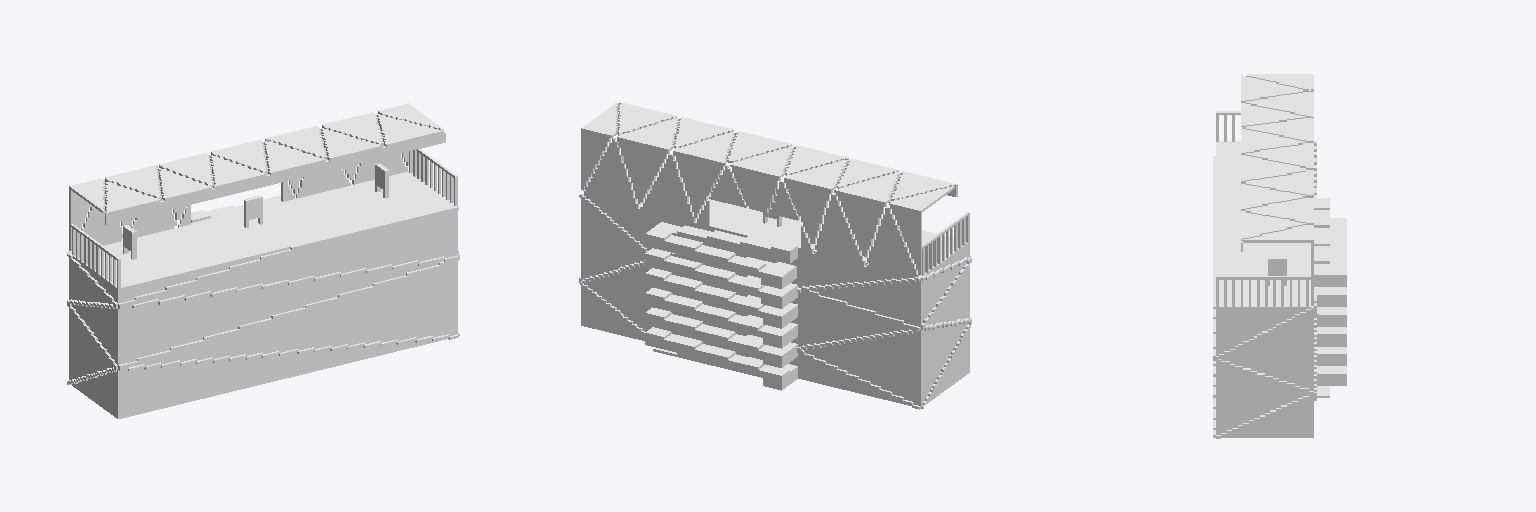
Rendered from Estacion.obj.
3 renders of one model, left to right at view 1: azimuth 30°, elevation 25°; view 2: azimuth 150°, elevation 25°; view 3: azimuth 270°, elevation 25°, orthographic.
Parts seen in each view (by area): view 1: object 1; view 2: object 1; view 3: object 1.
Boxes of the visible parts, <box> form: object 1: <box>67,103,459,418</box>; object 1: <box>579,102,971,409</box>; object 1: <box>1213,74,1346,438</box>.
Bounding box in the file's own units: 14.6 × 8 × 4.9.